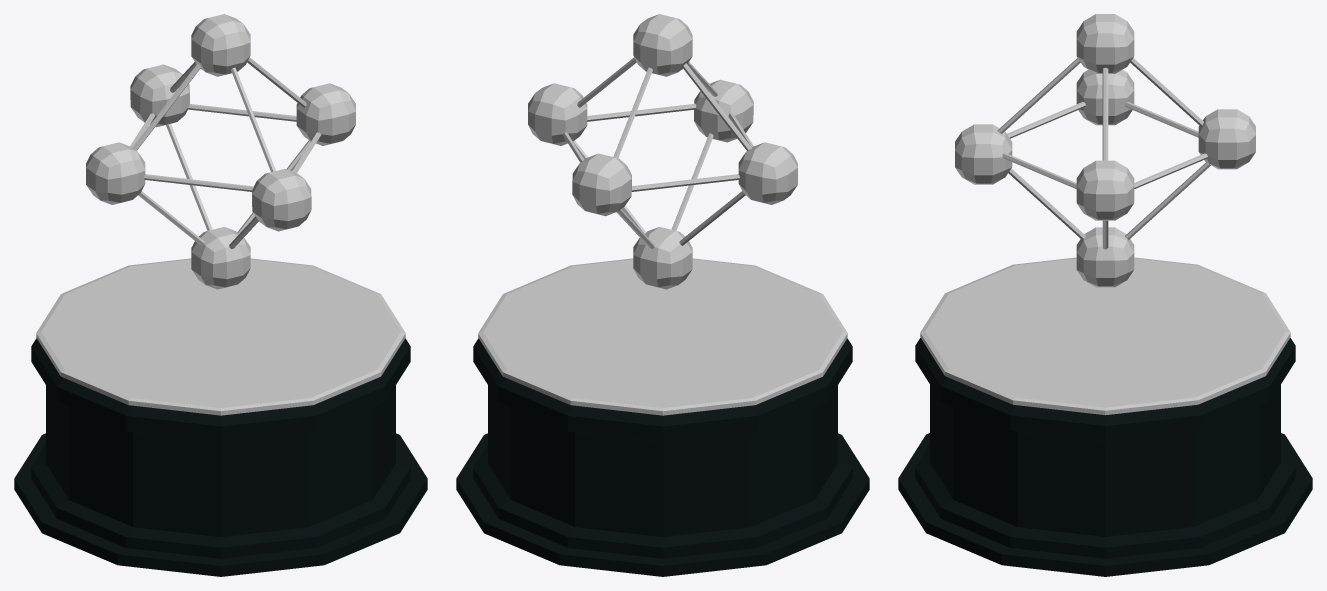
Rendered from bead_statue.obj.
3 views of the same model, side by side, from view 1: azimuth 30°, elevation 25°; view 2: azimuth 150°, elevation 25°; view 3: azimuth 270°, elevation 25° (orthographic).
Parts seen in each view (by area): view 1: Pedestal, PedestalRimGlow, Bead_E3, Bead_E2, Bead_Top, Bead_E0, Bead_Bot, Bead_E1, Beam_E2_E3, Beam_E0_E1, Beam_Top_E3, Beam_Top_E2 (+1 smaller); view 2: Pedestal, PedestalRimGlow, Bead_E1, Bead_E2, Bead_Top, Bead_E0, Bead_Bot, Bead_E3, Beam_E1_E2, Beam_Top_E2, Beam_E3_E0, Beam_Bot_E3 (+1 smaller); view 3: Pedestal, PedestalRimGlow, Bead_E0, Bead_Top, Bead_E1, Bead_E3, Bead_Bot, Bead_E2, Beam_Bot_E1, Beam_Top_E3, Beam_Top_E0, Beam_Bot_E3 (+2 smaller).
Part boxes in pixels (x1=…): Pedestal: x1=14, y1=338, x2=427, y2=576; PedestalRimGlow: x1=36, y1=258, x2=405, y2=415; Bead_E3: x1=252, y1=168, x2=311, y2=231; Bead_E2: x1=86, y1=142, x2=145, y2=204; Bead_Top: x1=191, y1=14, x2=250, y2=76; Bead_E0: x1=296, y1=83, x2=355, y2=145; Bead_Bot: x1=191, y1=227, x2=250, y2=289; Bead_E1: x1=130, y1=64, x2=189, y2=127; Beam_E2_E3: x1=144, y1=174, x2=253, y2=191; Beam_E0_E1: x1=187, y1=104, x2=296, y2=121; Beam_Top_E3: x1=231, y1=67, x2=275, y2=171; Beam_Top_E2: x1=132, y1=63, x2=201, y2=150; Pedestal: x1=456, y1=338, x2=869, y2=576; PedestalRimGlow: x1=478, y1=258, x2=847, y2=415; Bead_E1: x1=572, y1=153, x2=631, y2=216; Bead_E2: x1=738, y1=142, x2=797, y2=204; Bead_Top: x1=633, y1=14, x2=692, y2=76; Bead_E0: x1=528, y1=83, x2=587, y2=145; Bead_Bot: x1=633, y1=227, x2=692, y2=289; Bead_E3: x1=694, y1=79, x2=753, y2=142; Beam_E1_E2: x1=632, y1=174, x2=739, y2=191; Beam_Top_E2: x1=682, y1=63, x2=751, y2=150; Beam_E3_E0: x1=587, y1=103, x2=696, y2=121; Beam_Bot_E3: x1=671, y1=133, x2=713, y2=230; Pedestal: x1=898, y1=338, x2=1312, y2=576; PedestalRimGlow: x1=920, y1=257, x2=1290, y2=415; Bead_E0: x1=1076, y1=160, x2=1134, y2=220; Bead_Top: x1=1076, y1=14, x2=1134, y2=73; Bead_E1: x1=1198, y1=109, x2=1255, y2=169; Bead_E3: x1=955, y1=124, x2=1012, y2=184; Bead_Bot: x1=1076, y1=227, x2=1134, y2=287; Bead_E2: x1=1076, y1=70, x2=1134, y2=125; Beam_Bot_E1: x1=1125, y1=162, x2=1210, y2=239; Beam_Top_E3: x1=997, y1=58, x2=1080, y2=133; Beam_Top_E0: x1=1102, y1=67, x2=1108, y2=160; Beam_Bot_E3: x1=1008, y1=168, x2=1085, y2=239.
Size of the model in its own units: 1.7 by 2.13 by 1.7.
